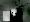person: (4, 9, 11, 21), (12, 10, 17, 17)
